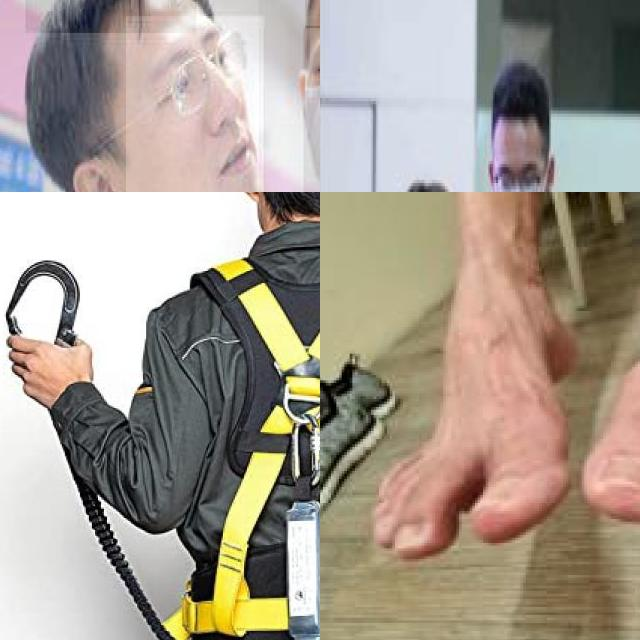Barefoots: (383, 274, 593, 580)
Harness: (169, 259, 320, 640)
No_Ear-Protection: (68, 156, 141, 192)
face_mask: (491, 148, 545, 192)
face_nomask: (126, 16, 263, 192)
glasses: (158, 24, 251, 123), (492, 165, 545, 192)
head_nohelmet: (25, 0, 198, 35), (491, 66, 554, 148), (395, 170, 468, 192)
person: (0, 0, 289, 192), (462, 72, 598, 192)
